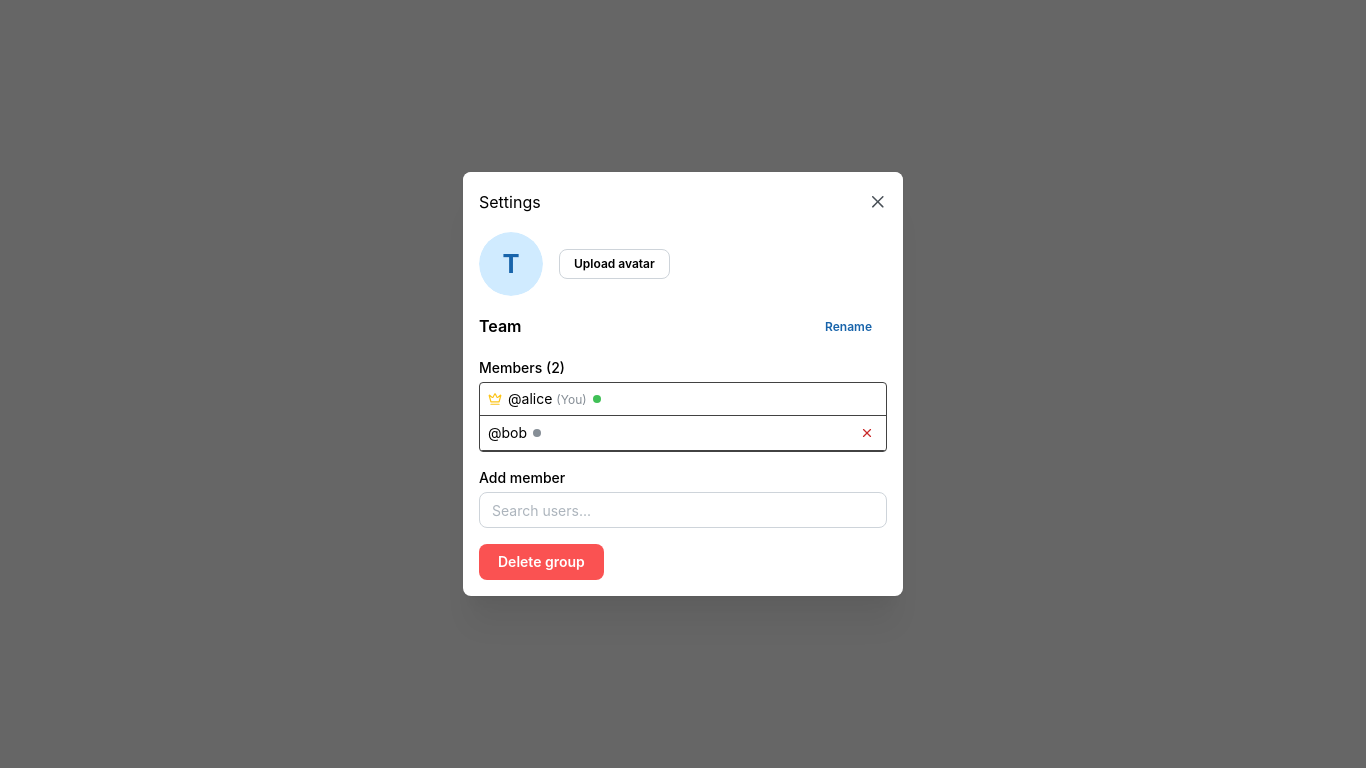
Test case: group settings modal › keeps the delete confirmation open when the server refuses
Click the button "Delete group".
click(541, 562)  # box [479, 544, 604, 580]
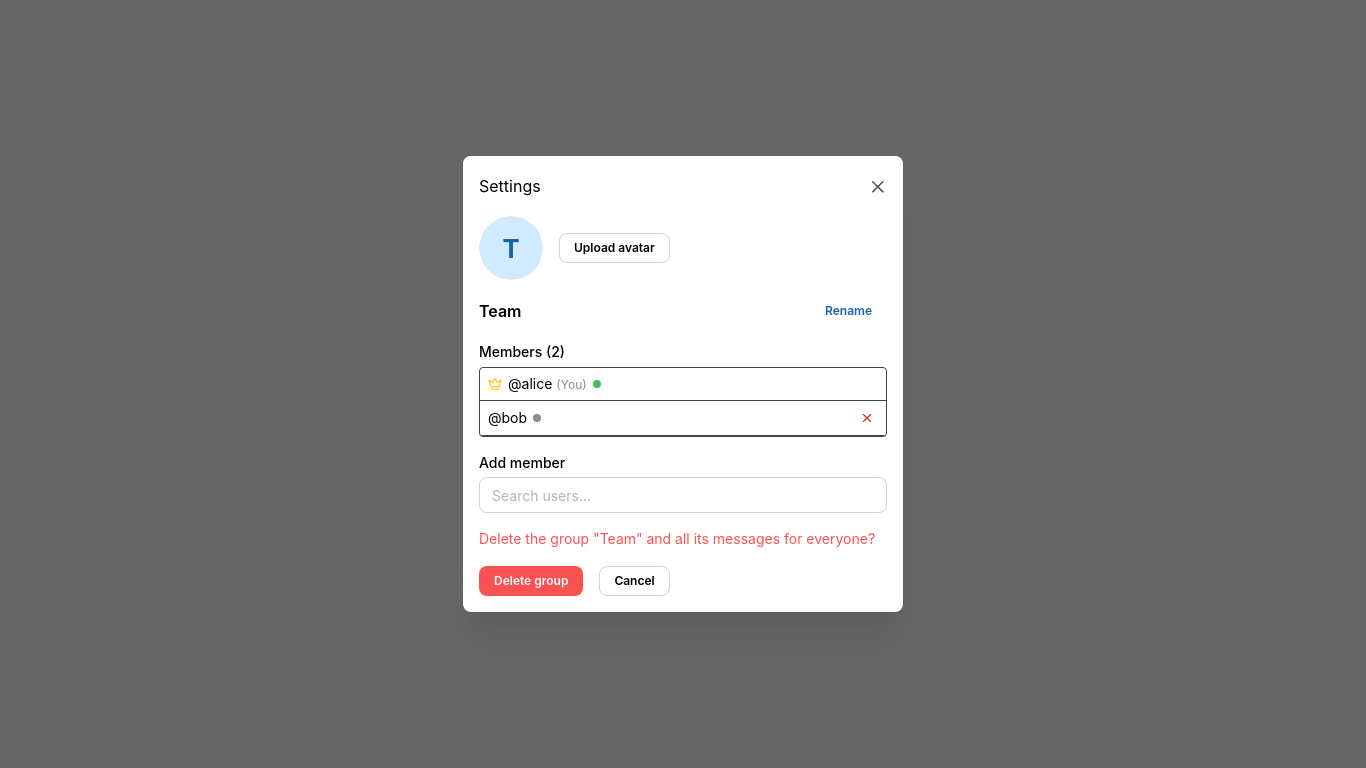
Click the button "Delete group".
click(531, 581)  # box [479, 566, 583, 596]
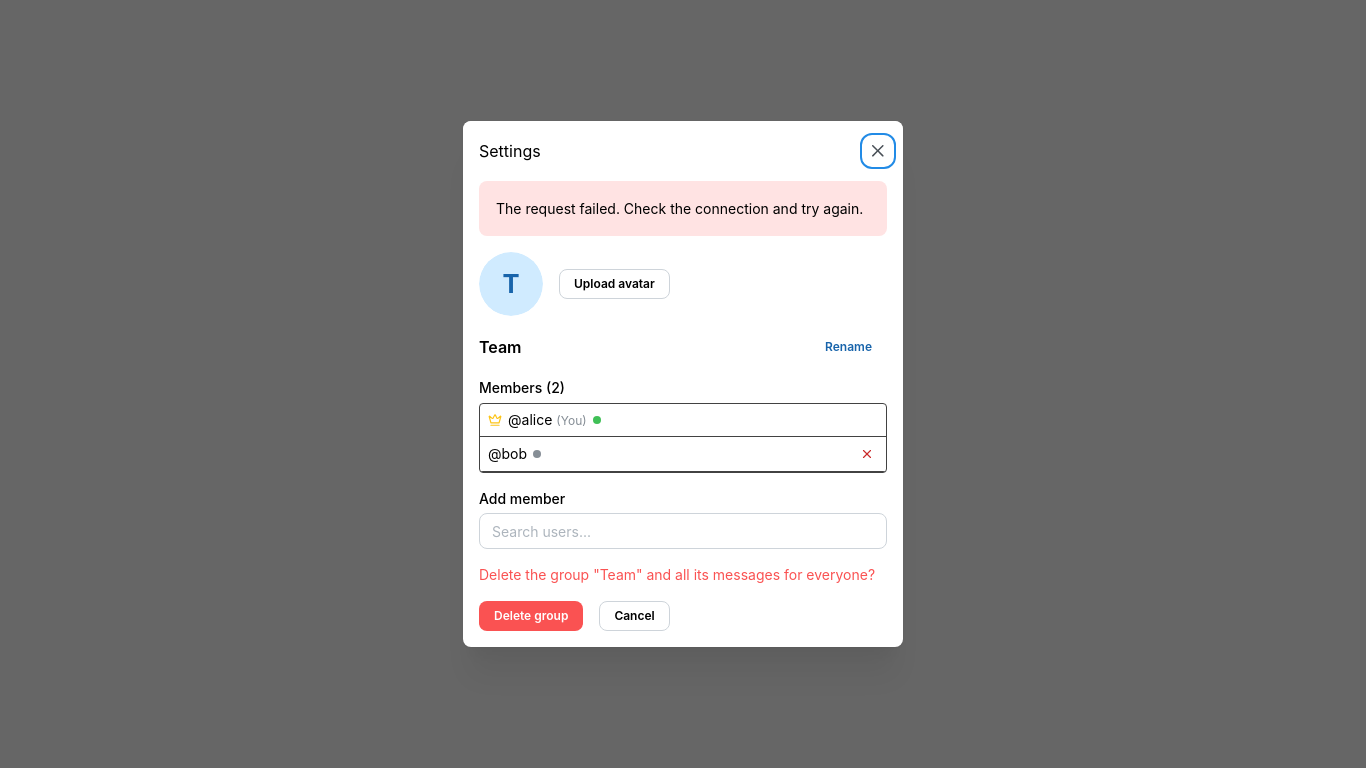
Check: the button "Delete group" is shown, box [494, 608, 568, 623]
Check: the message "The request failed. Check the connection and try again." is shown, box [479, 181, 887, 236]
